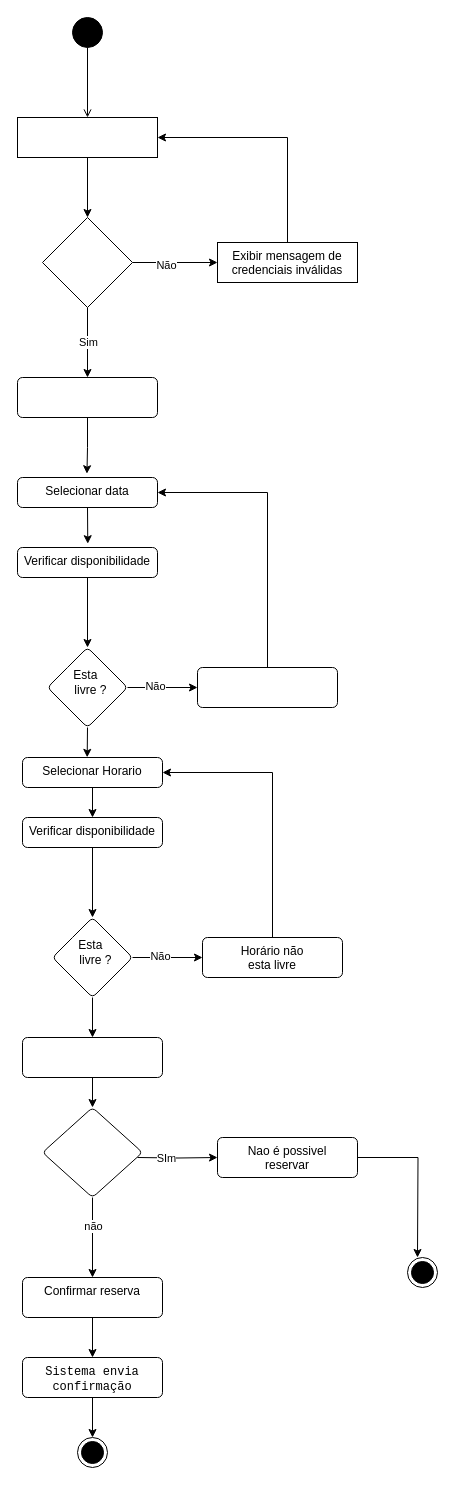
The diagram is 455 pixels wide and 1485 high, and some of its shapes have lost their labels. Each missing label, with the box of its shape:
Data não esta livre: (196, 666, 338, 708)
Email e senha corretos ?: (42, 216, 132, 308)
Inadimplênte ?: (42, 1106, 142, 1198)
Morador faz o login com suas credencias: (16, 116, 158, 158)
Morador s eleciona área comum: (16, 376, 158, 418)
Sistema verifica inadimplência: (22, 1036, 162, 1078)
